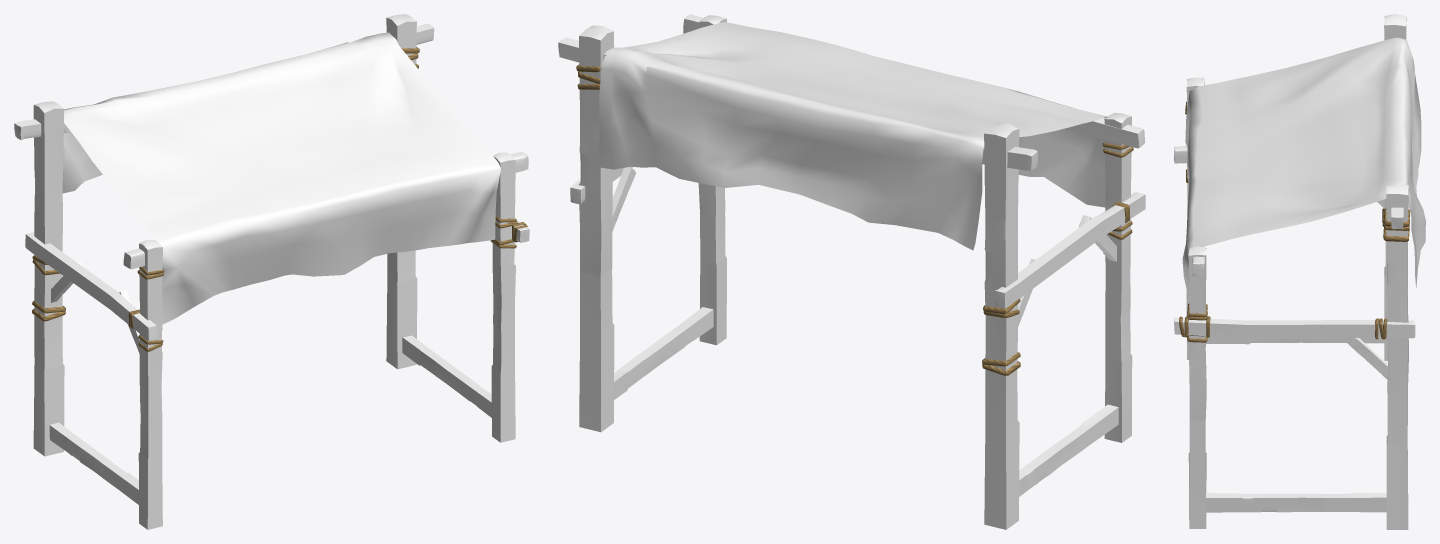
File: SM_Stall_01.fbx
The picture shows the model from 3 angles, left to right: view 1: azimuth 30°, elevation 25°; view 2: azimuth 150°, elevation 25°; view 3: azimuth 270°, elevation 25°; orthographic projection. The views are drawn at different scales.
Visible parts, largest first — view 1: SM_Stall_01_LOD0; view 2: SM_Stall_01_LOD0; view 3: SM_Stall_01_LOD0.
Boxes of the visible parts, bbox=[...] form: SM_Stall_01_LOD0: bbox=[14, 14, 529, 529]; SM_Stall_01_LOD0: bbox=[558, 14, 1145, 529]; SM_Stall_01_LOD0: bbox=[1174, 14, 1425, 529].
Size of what is drawn, in the model's own units: 4.22 by 3.36 by 2.27.
